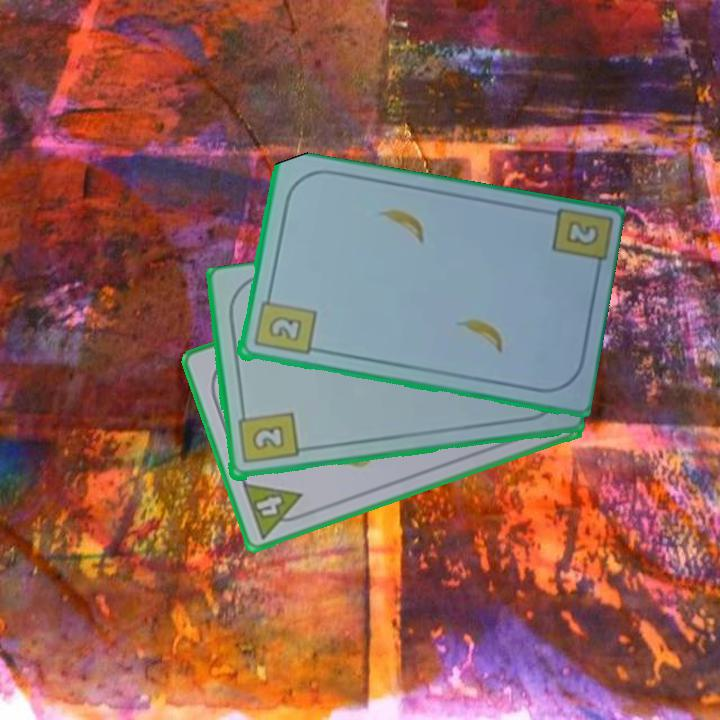2b: (250, 289, 318, 358), (234, 406, 300, 467), (565, 220, 599, 247)
4p: (238, 479, 311, 542)
